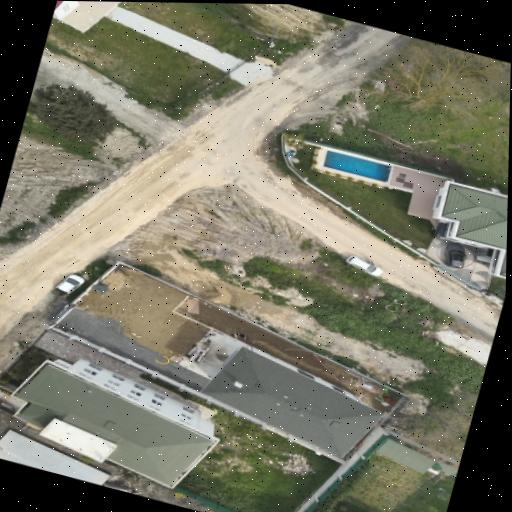car: (347, 255, 382, 275), (57, 274, 85, 292), (448, 249, 466, 267)
